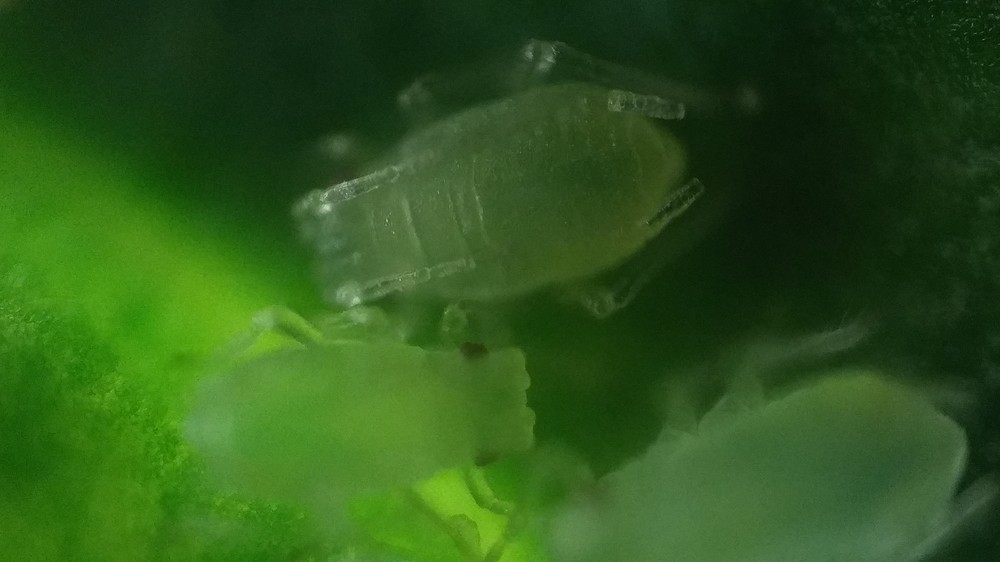Pulgon: (264, 23, 746, 337), (182, 290, 587, 558)
